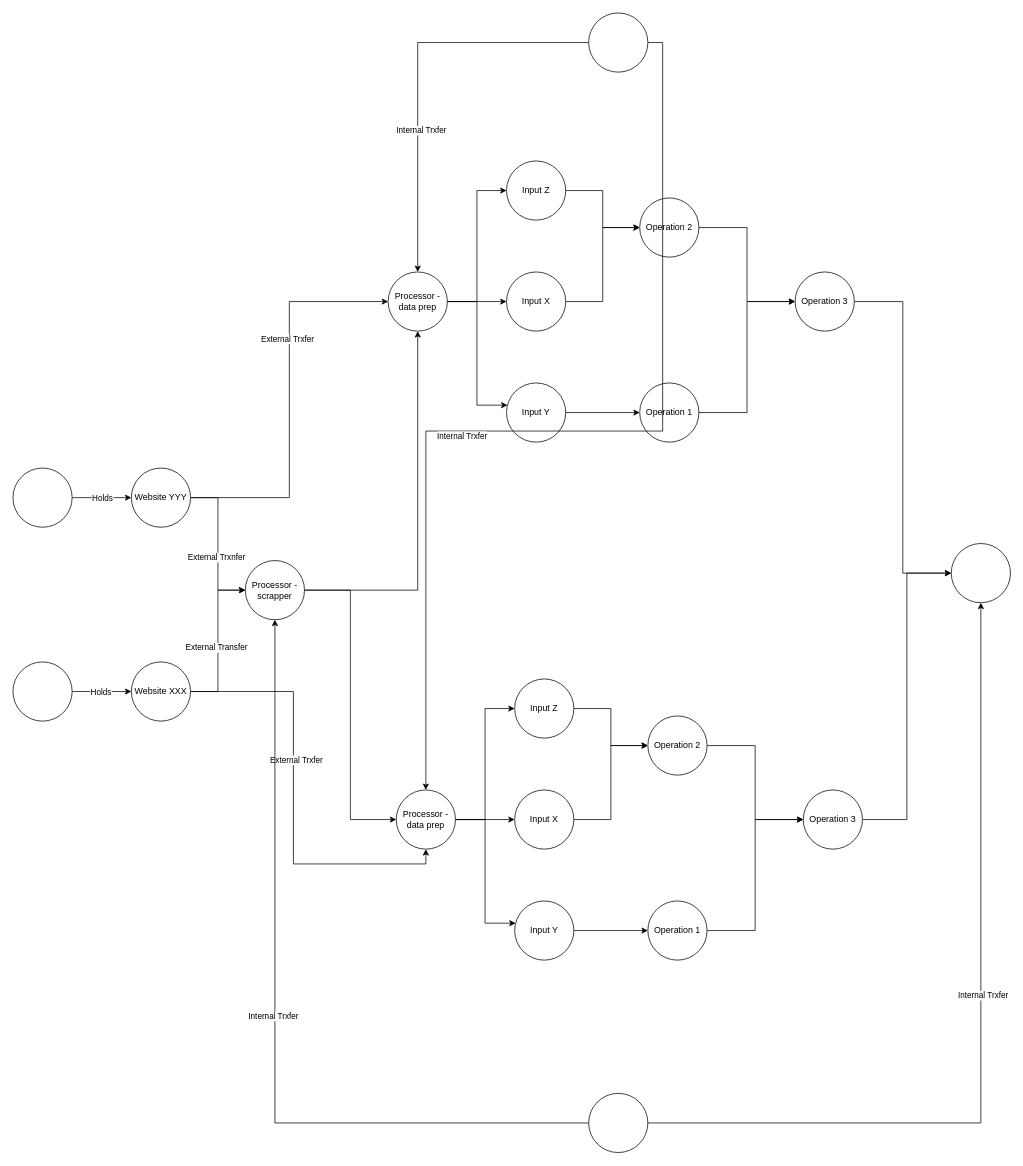
Some shapes in this 1023 by 1166 pixel diagram are drawn without their labels. Here are the shapes that lost their labels. From the top down, the box of each, then its label:
(588, 12, 648, 72): HW 2
(12, 467, 72, 527): ABC
(951, 543, 1010, 603): Processor - display/store
(12, 661, 72, 721): CNN
(588, 1093, 648, 1153): HW 1
